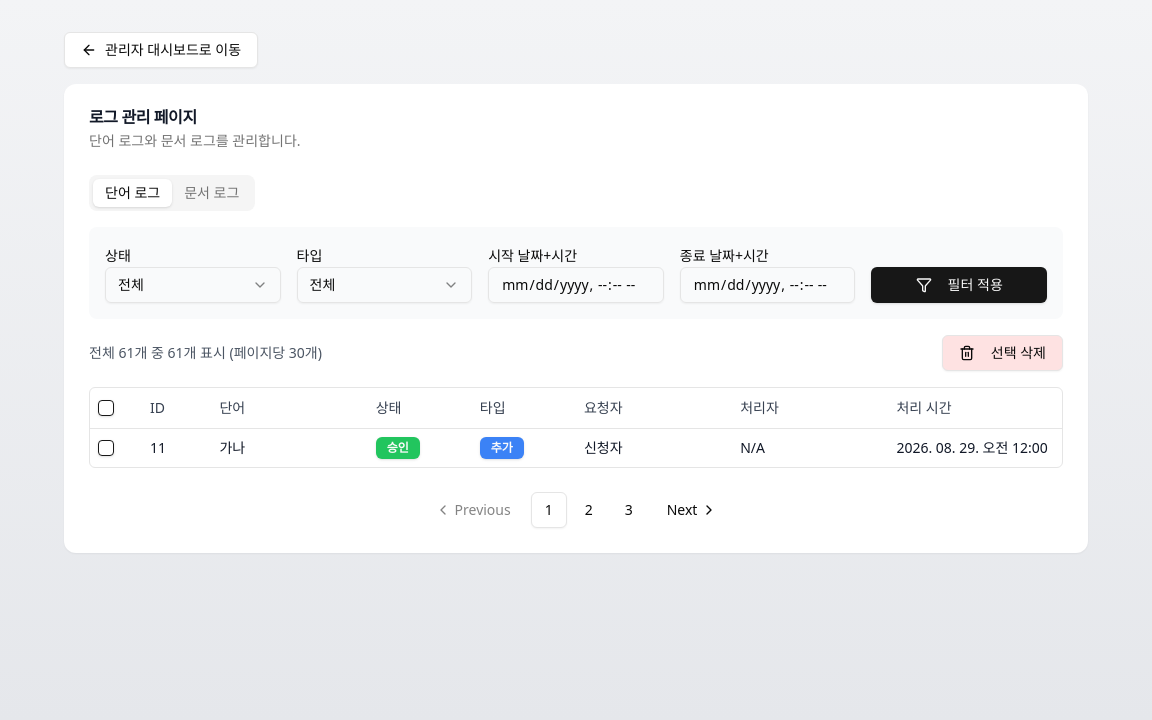
Test: AdminLogsHome › renders a Modal instead of submitting when no log is selected
What coordinates should you click on to do the following:
click the button "선택 삭제"
I would click on:
 (1002, 353)
Its box is top-left (942, 335), bottom-right (1063, 371).
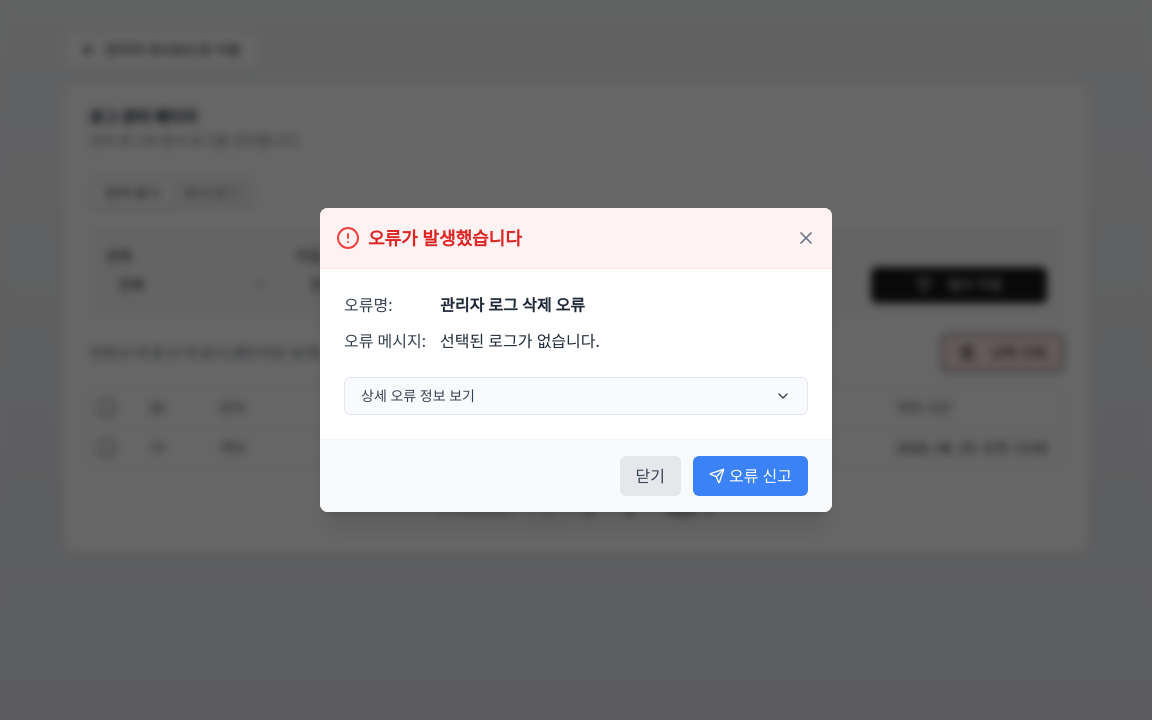
Expected: the text "선택된 로그가 없습니다." is shown, top-left (440, 329), bottom-right (600, 353)
